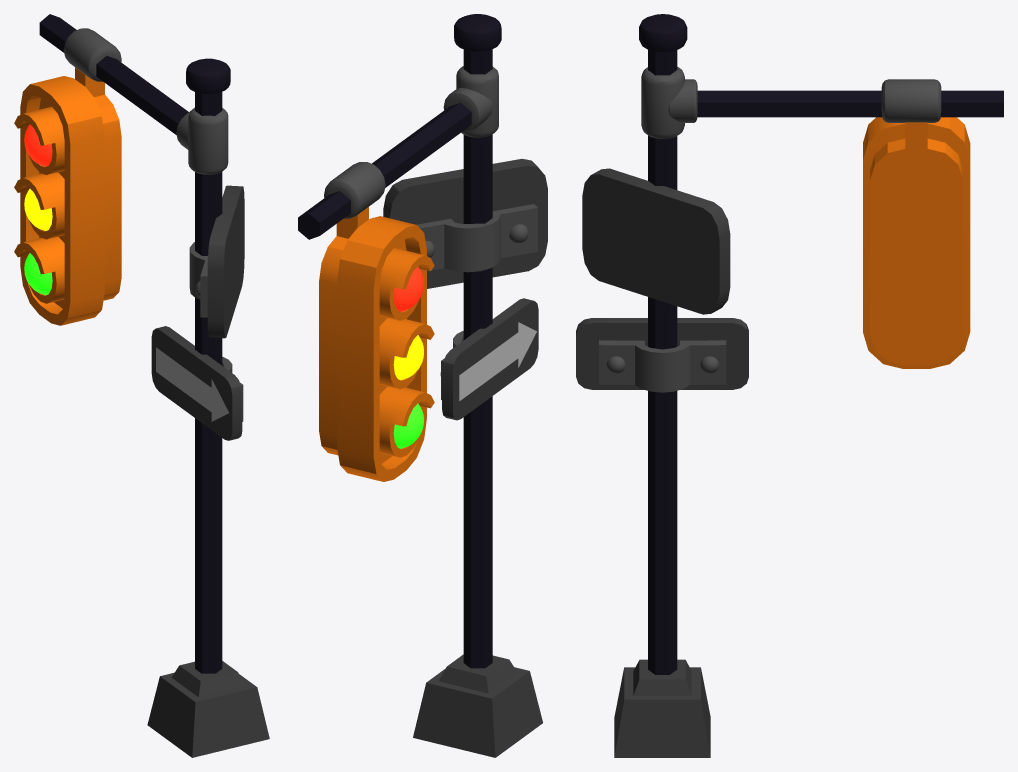
File: traffic light.fbx
3 views of the same model, side by side, from view 1: azimuth 30°, elevation 25°; view 2: azimuth 150°, elevation 25°; view 3: azimuth 270°, elevation 25° (orthographic). The views are drawn at different scales.
Visible parts, largest first — view 1: Cylinder.036; view 2: Cylinder.036; view 3: Cylinder.036.
Part boxes in pixels (x1,y1,x2,y2): Cylinder.036: (14, 14, 269, 757); Cylinder.036: (298, 14, 547, 757); Cylinder.036: (576, 14, 1003, 757).
Bounding box in the file's own units: 134 × 367 × 678.
